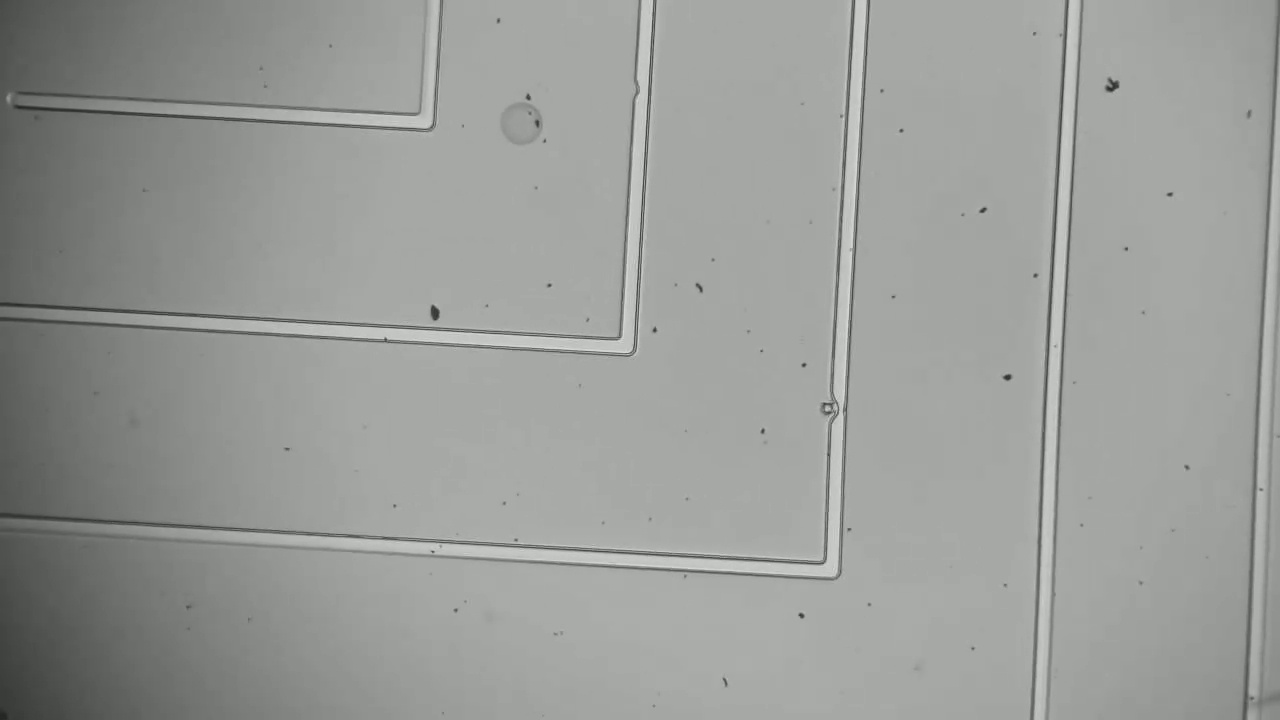edge_bite: (816, 384, 860, 435), (623, 67, 658, 109)
